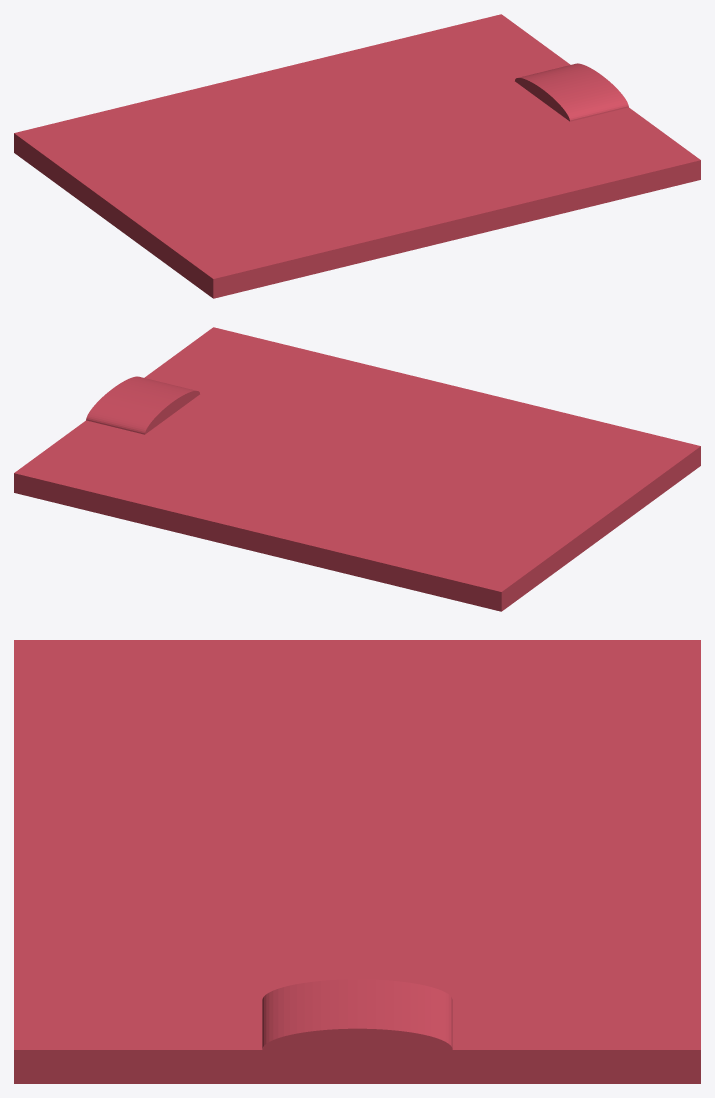
Rendered from Deckel mit Halter.glb.
3 views of the same model, one above another, from view 1: azimuth 30°, elevation 25°; view 2: azimuth 150°, elevation 25°; view 3: azimuth 270°, elevation 25° (orthographic). The views are drawn at different scales.
Visible parts, largest first — view 1: Mesh_Mesh_head_geo.001_lambert2SG.001; view 2: Mesh_Mesh_head_geo.001_lambert2SG.001; view 3: Mesh_Mesh_head_geo.001_lambert2SG.001.
Part boxes in pixels (x1=…): Mesh_Mesh_head_geo.001_lambert2SG.001: x1=14, y1=14, x2=700, y2=298; Mesh_Mesh_head_geo.001_lambert2SG.001: x1=14, y1=327, x2=700, y2=611; Mesh_Mesh_head_geo.001_lambert2SG.001: x1=14, y1=640, x2=700, y2=1083.
Bounding box in the file's own units: 132 × 8.26 × 93.22.
